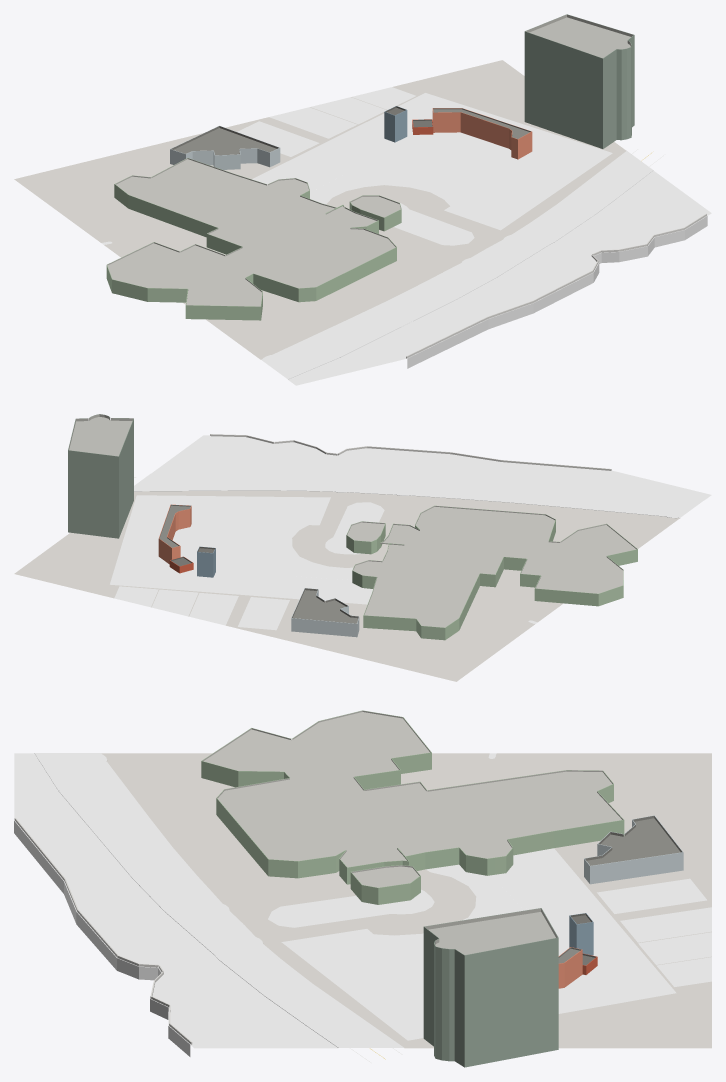
3 renders of one model, top to bottom at view 1: azimuth 30°, elevation 25°; view 2: azimuth 150°, elevation 25°; view 3: azimuth 270°, elevation 25°, orthographic. The views are drawn at different scales.
Visible parts, largest first — view 1: ground, roofs, grass, walls, concrete, sidewalk, coast, stone; view 2: ground, roofs, grass, concrete, walls, sidewalk, stone; view 3: ground, roofs, grass, walls, concrete, sidewalk, coast, stone.
Boxes of the visible parts, box(x1,y1,x2,y2) form: ground: box(14, 60, 626, 359); roofs: box(107, 14, 633, 306); grass: box(237, 87, 612, 245); walls: box(106, 31, 634, 320); concrete: box(101, 170, 711, 385); sidewalk: box(261, 151, 653, 379); coast: box(407, 216, 707, 368); stone: box(406, 213, 706, 358); ground: box(14, 490, 679, 681); roofs: box(68, 414, 637, 627); grass: box(110, 495, 384, 630); concrete: box(151, 435, 711, 623); walls: box(68, 419, 637, 640); sidewalk: box(134, 473, 704, 518); stone: box(210, 434, 611, 470); ground: box(101, 753, 711, 1048); roofs: box(201, 710, 682, 965); grass: box(268, 848, 711, 1040); walls: box(201, 752, 683, 1067); concrete: box(14, 753, 527, 1048); sidewalk: box(34, 753, 403, 1047); coast: box(14, 821, 190, 1056); stone: box(14, 818, 192, 1044).
Size of what is drawn, in the model's own units: 288 by 49.3 by 250.
